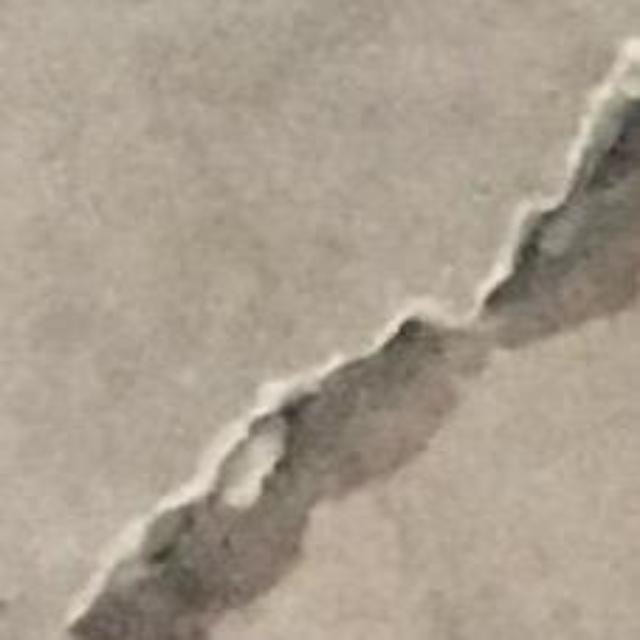crack: (68, 40, 639, 639)
